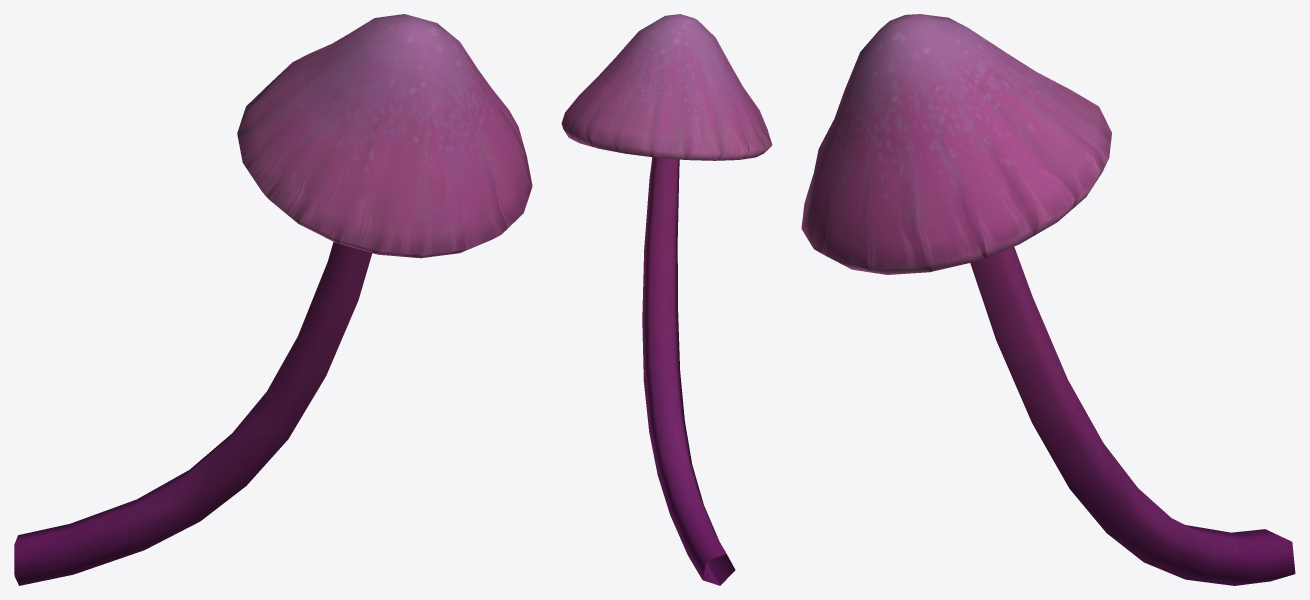
File: SM_Mush_1.fbx
The picture shows the model from 3 angles, left to right: view 1: azimuth 30°, elevation 25°; view 2: azimuth 150°, elevation 25°; view 3: azimuth 270°, elevation 25°; orthographic projection. The views are drawn at different scales.
Parts seen in each view (by area): view 1: SM_Mush_1; view 2: SM_Mush_1; view 3: SM_Mush_1.
Part boxes in pixels (left/top/right/bottom): SM_Mush_1: left=14, top=14, right=532, bottom=585; SM_Mush_1: left=561, top=14, right=772, bottom=585; SM_Mush_1: left=801, top=14, right=1295, bottom=585.
Size of the model in its own units: 26.83 by 44.38 by 29.23.
